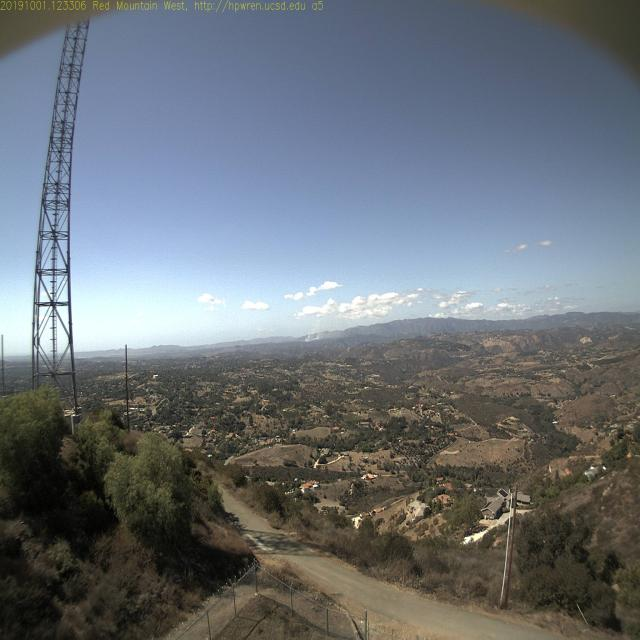smoke: (295, 317, 338, 344)
